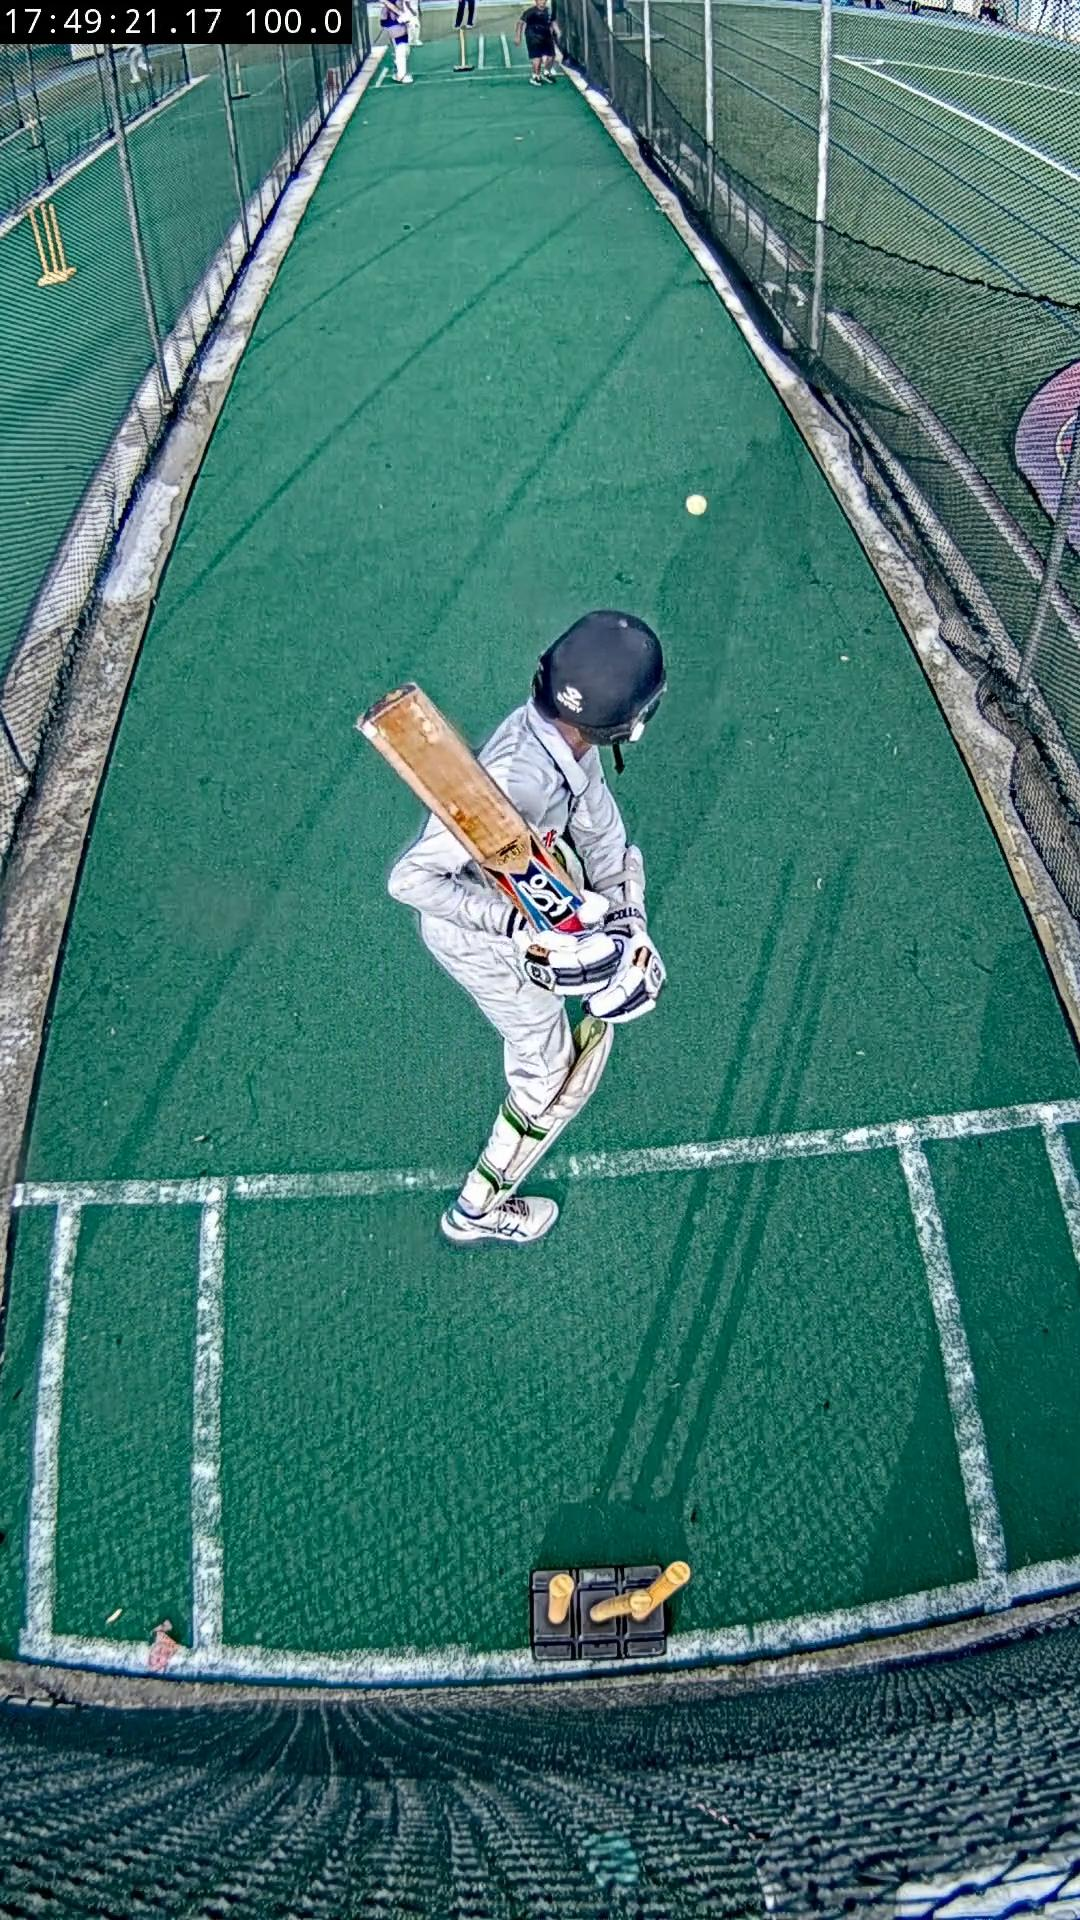ball: (686, 495, 708, 516)
bat: (356, 683, 600, 932)
gloves: (521, 930, 663, 1022)
helmet: (533, 612, 667, 744)
pads: (506, 1017, 615, 1185)
stumps: (533, 1564, 690, 1662)
